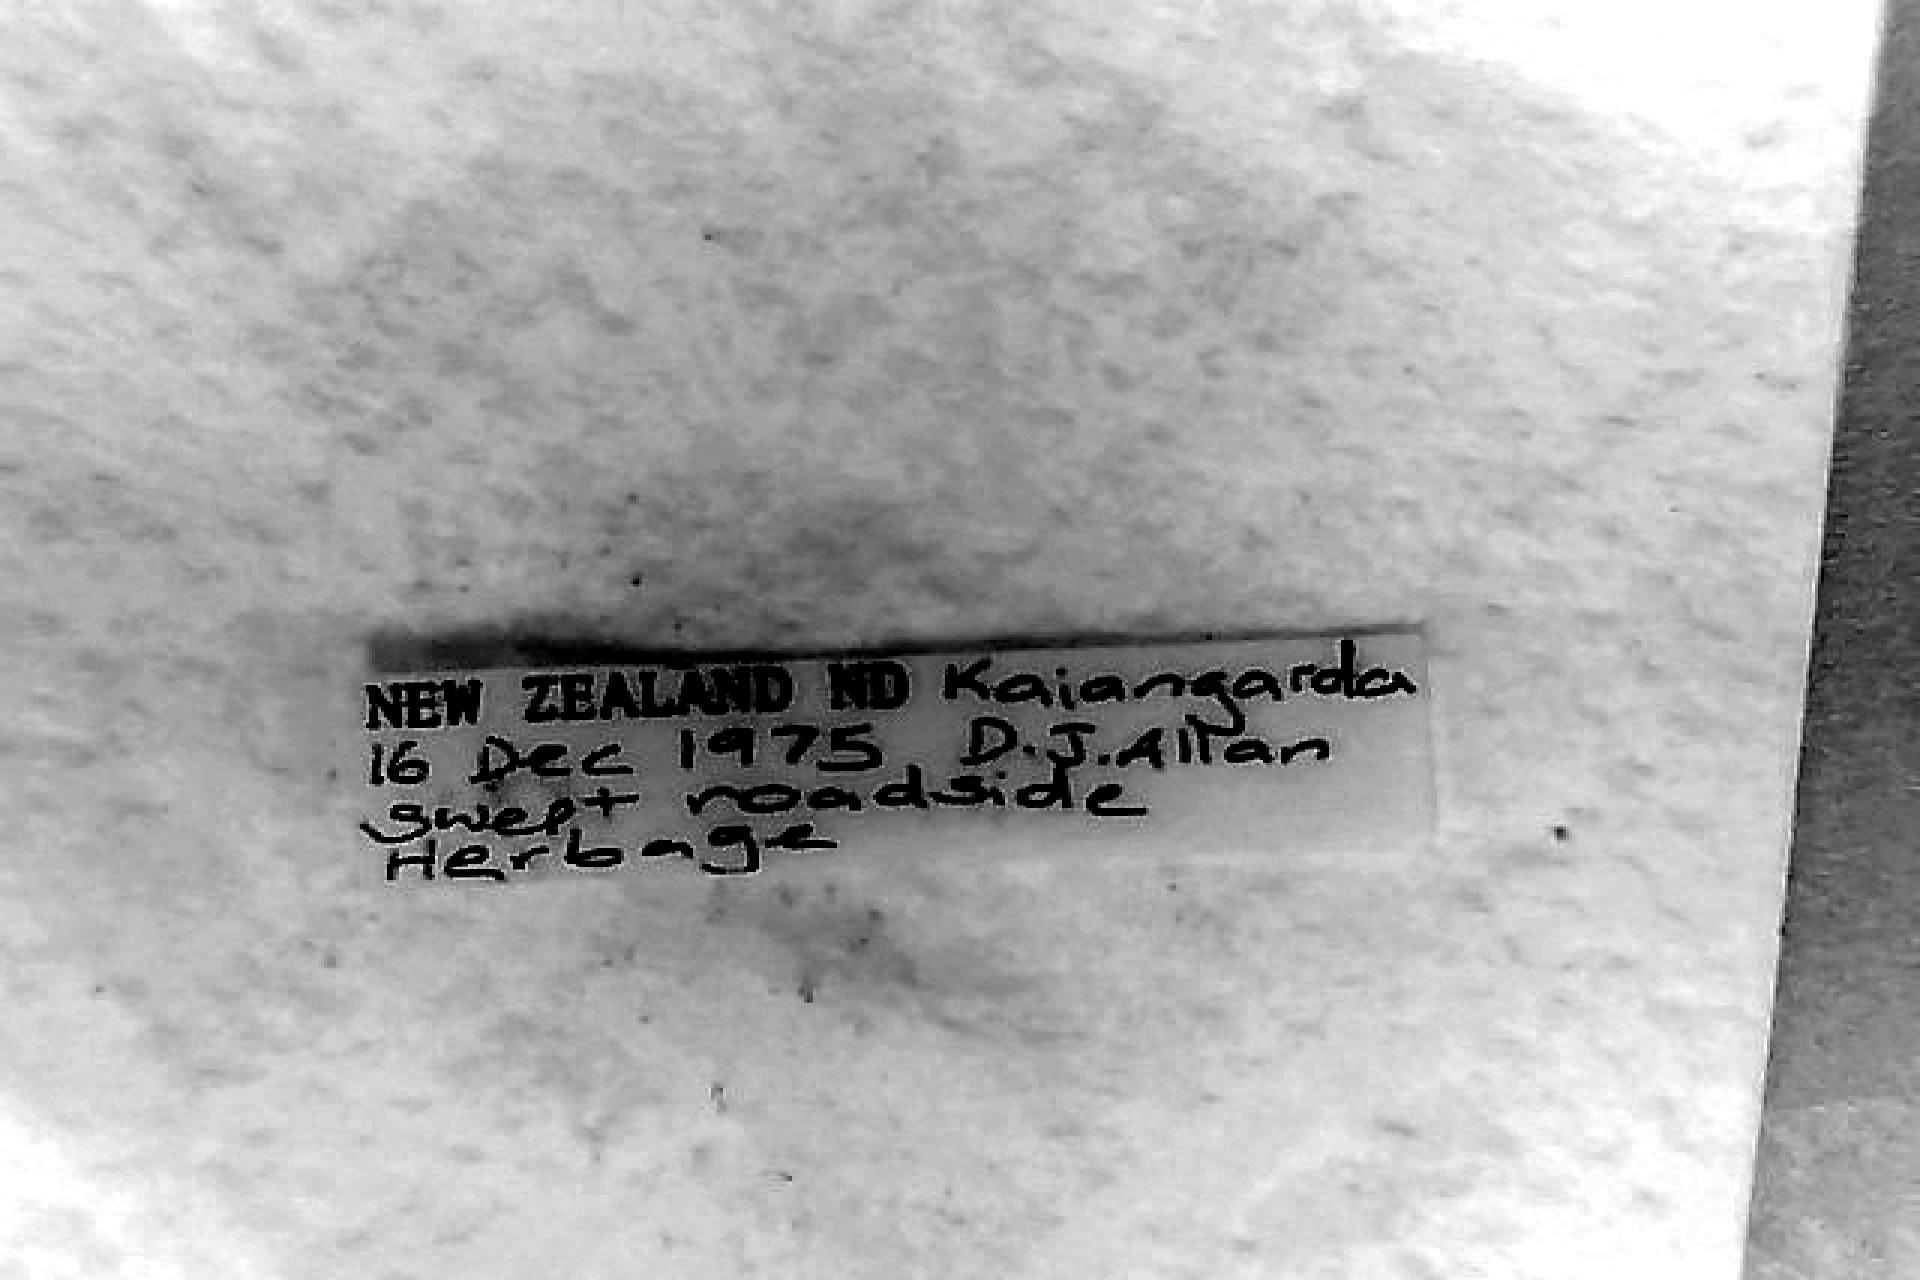mixed_label: (360, 630, 1432, 883)
